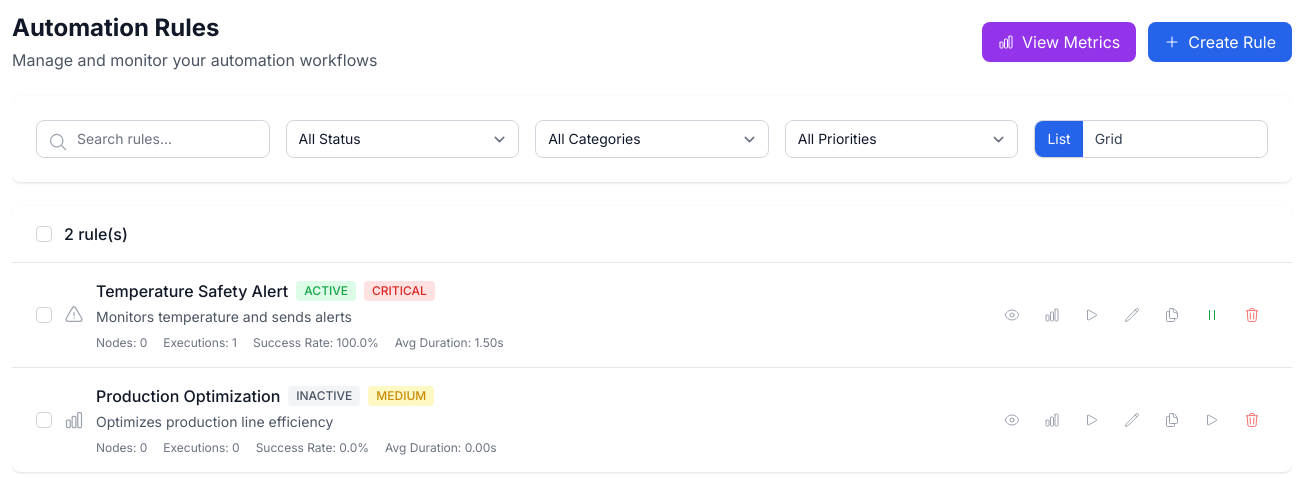
Scenario: AutomationManager › filters rules by search term
Step 1. Type "temperature" into the field with placeholder "Search rules..." → (153, 139), box x1=36 y1=120 x2=270 y2=158
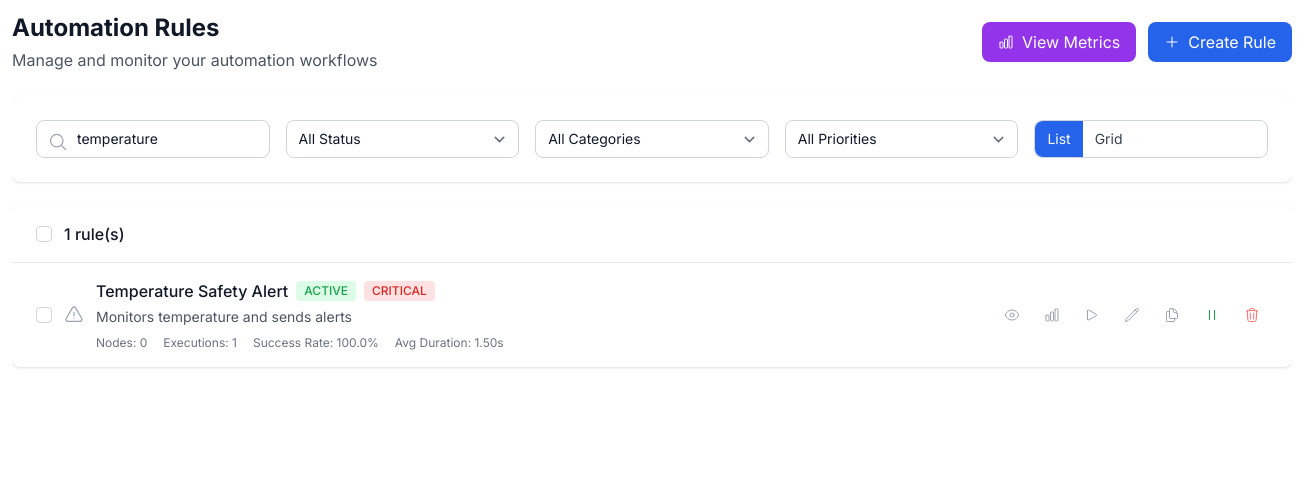
Check: the heading "Temperature Safety Alert" is shown, box x1=96 y1=279 x2=288 y2=303
Check: the heading "Production Optimization" is gone
